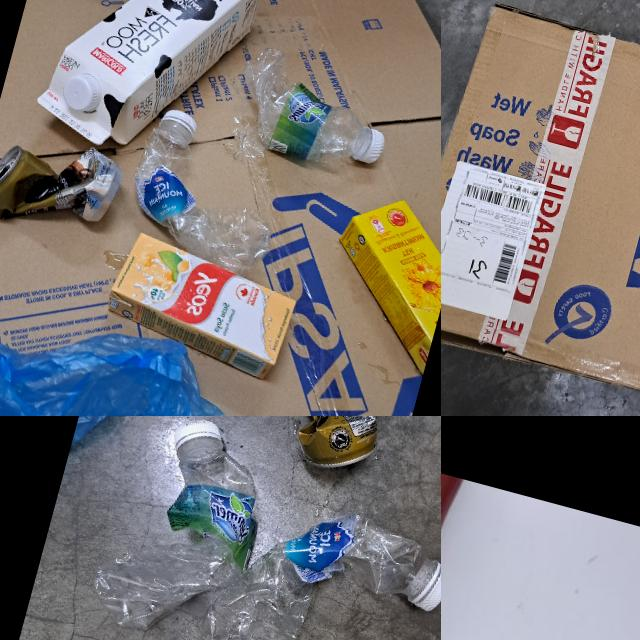caixinha: (32, 0, 268, 175), (100, 228, 300, 380), (311, 186, 441, 373)
garrafa de vidro: (441, 416, 496, 640)
garrafa plástica: (195, 477, 441, 640), (87, 424, 272, 640), (118, 102, 296, 270), (225, 49, 398, 180)
lata: (0, 115, 130, 248), (272, 416, 401, 483)
papelão: (0, 0, 441, 416), (441, 0, 640, 416)
sacola plástica: (0, 277, 293, 416), (65, 416, 188, 480)
tampa plástica: (168, 416, 226, 461), (56, 66, 106, 116), (406, 553, 441, 618), (153, 104, 200, 140), (353, 126, 390, 169)
